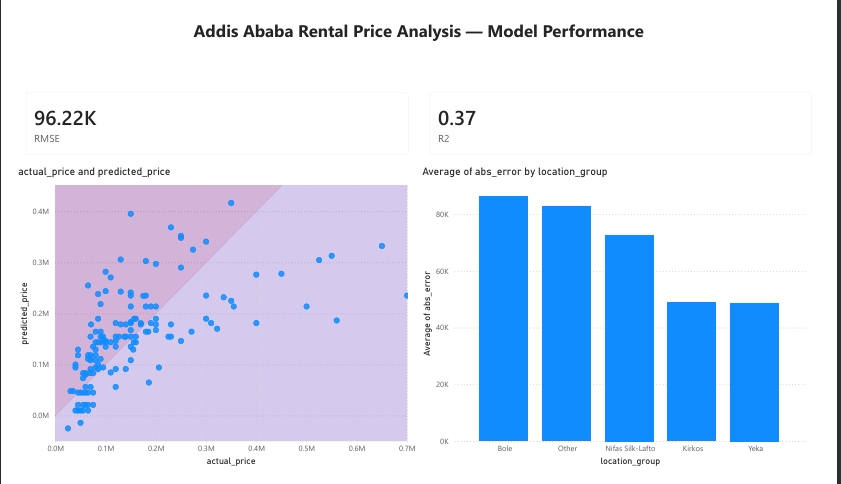

What the dashboard file says about the page in this screenshot:
{"tool":"powerbi","page":{"name":"Model Performance","canvas":[1280,720],"ordinal":2},"visuals":[{"type":"scatterChart","fields":{"X":["model_predictions.actual_price"],"Y":["model_predictions.predicted_price"]},"box":[0,238.4,639.6,481.4],"z":0},{"type":"clusteredColumnChart","fields":{"Category":["model_predictions.location_group"],"Y":["Avg(model_predictions.abs_error)"]},"box":[639.6,238.4,618.9,481.4],"z":1},{"type":"cardVisual","fields":{"Data":["model_predictions.RMSE"]},"box":[0,105.4,639.6,133],"z":2},{"type":"cardVisual","fields":{"Data":["model_predictions.R2"]},"box":[639.6,105.4,639.6,133],"z":3},{"type":"textbox","box":[0,0,1279.1,105.4],"z":4}]}

Visuals, with their boxes in screenshot pixels (x1, y1, x2, y2), scaled from the page's 1280x720 canvas onto the 841x484 screenshot:
scatterChart - model_predictions.actual_price x model_predictions.predicted_price: select_region(0, 160, 420, 483)
clusteredColumnChart - model_predictions.location_group x Avg(model_predictions.abs_error): select_region(420, 160, 827, 483)
cardVisual - model_predictions.RMSE: select_region(0, 71, 420, 160)
cardVisual - model_predictions.R2: select_region(420, 71, 840, 160)
textbox: select_region(0, 0, 840, 71)
